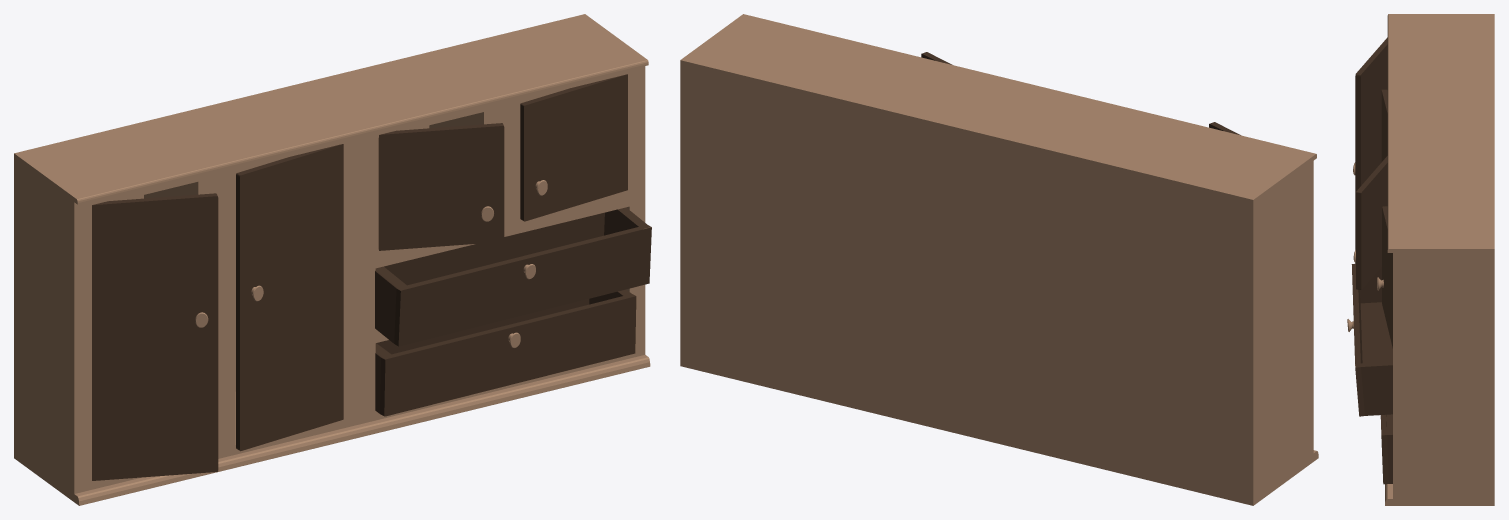
Rendered from prop_cabinet.glb.
The picture shows the model from 3 angles, left to right: view 1: azimuth 30°, elevation 25°; view 2: azimuth 150°, elevation 25°; view 3: azimuth 270°, elevation 25°; orthographic projection. The views are drawn at different scales.
Visible parts, largest first — view 1: cabinet, cabinet.001, cabinet.005, cabinet.006, cabinet.003; view 2: cabinet; view 3: cabinet, cabinet.005, cabinet.003, cabinet.006, cabinet.001.
Part boxes in pixels (x1,y1,x2,y2): cabinet: (14, 14, 650, 505); cabinet.001: (236, 144, 343, 451); cabinet.005: (375, 207, 651, 346); cabinet.006: (375, 289, 636, 416); cabinet.003: (520, 74, 627, 221); cabinet: (680, 14, 1318, 505); cabinet: (1353, 14, 1494, 505); cabinet.005: (1351, 263, 1392, 416); cabinet.003: (1382, 206, 1392, 348); cabinet.006: (1380, 414, 1392, 484); cabinet.001: (1381, 89, 1387, 161).
Bounding box in the file's own units: 8.01 × 4.09 × 2.12.
3 materials, 1 textured.
